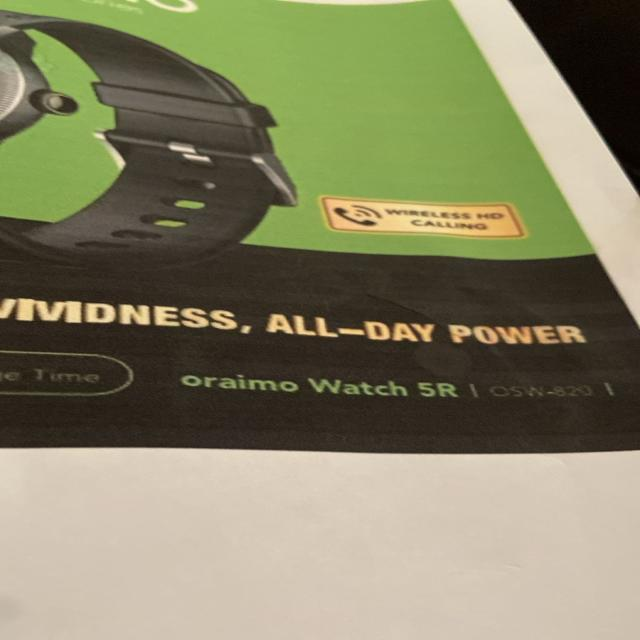Oraimo Watch 5R OSW-820: (175, 367, 624, 409)
